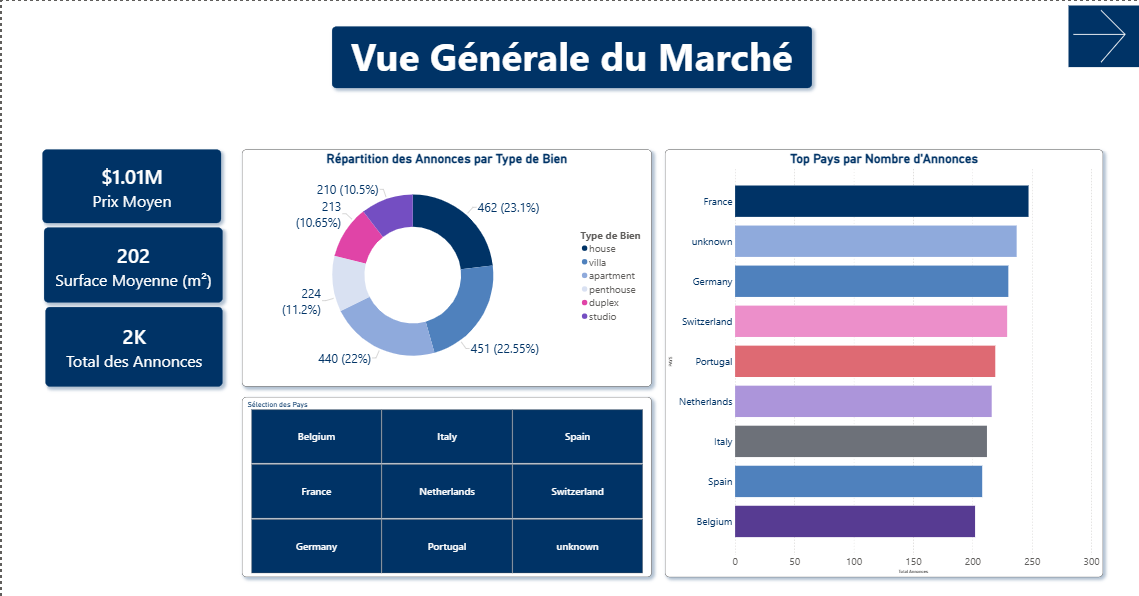

The page's visual inventory and layout, read from the dashboard file:
{"tool":"powerbi","page":{"name":"Vue Générale du Marché","canvas":[3800,2000],"ordinal":0},"visuals":[{"type":"clusteredBarChart","title":"Top Pays par Nombre d''Annonces","fields":{"Category":["DIM_LOCATION.COUNTRY"],"Y":["_Measures.Total_Annonces"]},"box":[2210,495,1460,1425],"z":0},{"type":"cardVisual","fields":{"Data":["_Measures.Total_Annonces"]},"box":[145,1020,590,265],"z":0,"group":"g1"},{"type":"donutChart","title":"Répartition des Annonces par Type de Bien","fields":{"Category":["DIM_PROPERTY.PROPERTY_TYPE"],"Y":["_Measures.Total_Annonces"]},"box":[800,495,1365,790],"z":1000},{"type":"cardVisual","fields":{"Data":["_Measures.Prix_Moyen"]},"box":[135,495,595,245],"z":2000,"group":"g1"},{"type":"slicer","fields":{"Values":["DIM_LOCATION.COUNTRY"]},"box":[800,1320,1365,600],"z":2000},{"type":"textbox","box":[1100,85,1600,205],"z":3000},{"type":"group","id":"g1","title":"Group 1","box":[135,495,600,790],"z":4000},{"type":"cardVisual","fields":{"Data":["_Measures.Surface_Moyenne"]},"box":[140,755,595,250],"z":4000,"group":"g1"},{"type":"actionButton","box":[3555,15,235,205],"z":5000}]}

Visuals, with their boxes in screenshot pixels (x1, y1, x2, y2), scaled from the page's 3800x2000 canvas onto the 1139x596 screenshot:
"Top Pays par Nombre d''Annonces" clusteredBarChart: 662:148:1100:572
cardVisual - _Measures.Total_Annonces: 43:304:220:383
"Répartition des Annonces par Type de Bien" donutChart: 240:148:649:383
cardVisual - _Measures.Prix_Moyen: 40:148:219:221
slicer - DIM_LOCATION.COUNTRY: 240:393:649:572
textbox: 330:25:809:86
"Group 1" group: 40:148:220:383
cardVisual - _Measures.Surface_Moyenne: 42:225:220:299
actionButton: 1066:4:1136:66
